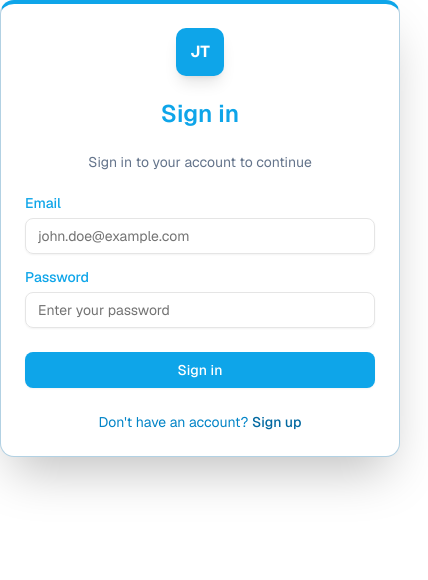
Test: LoginForm › should clear error message when form values change
# Submit form with invalid credentials
Type "test@example.com" into the field labelled "Email". click: (200,236)
box: [25,218,375,254]
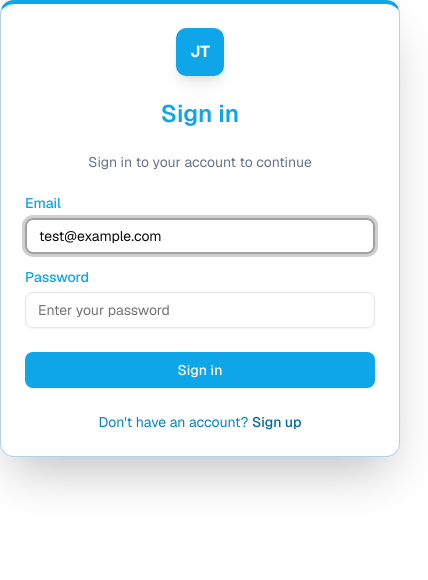
Type "wrongpassword" into the password field labelled "Password". click: (200,310)
box: [25,292,375,328]
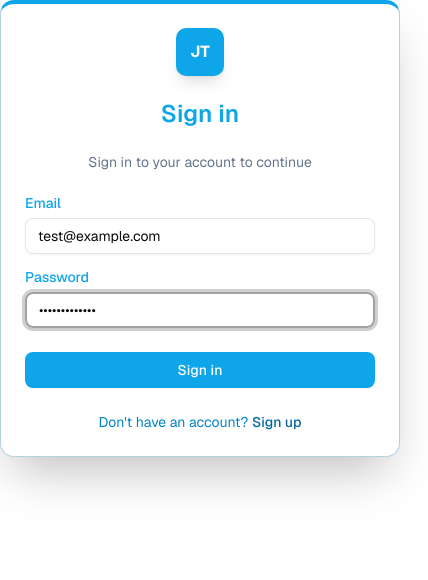
Click the button "Sign in". click: (200,370)
box: [25,352,375,388]
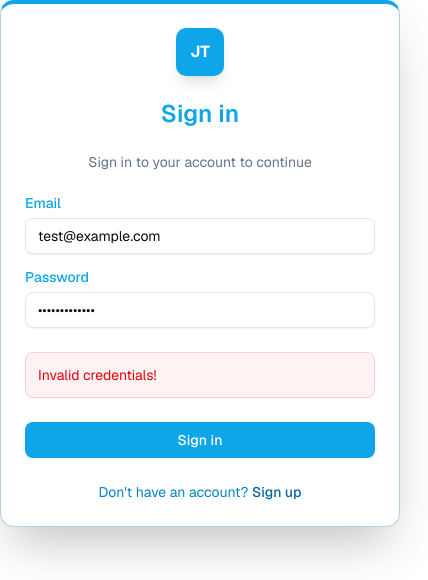
Expected: the text "Invalid credentials!" is shown, [25,352,375,398]
Click the password field labelled "Password". click: (200,310)
box: [25,292,375,328]
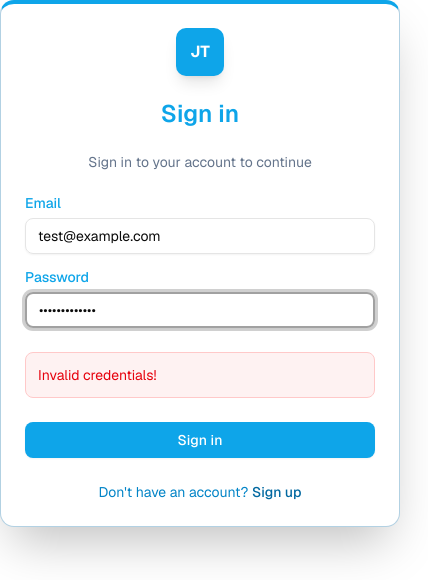
Type keys "{Control>}a{/Control}"
Type "newpassword" into the password field labelled "Password". click: (200,310)
box: [25,292,375,328]
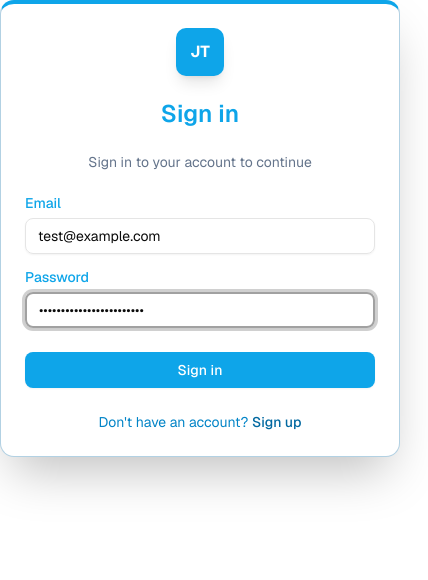
Expected: the text "Invalid credentials!" is gone
